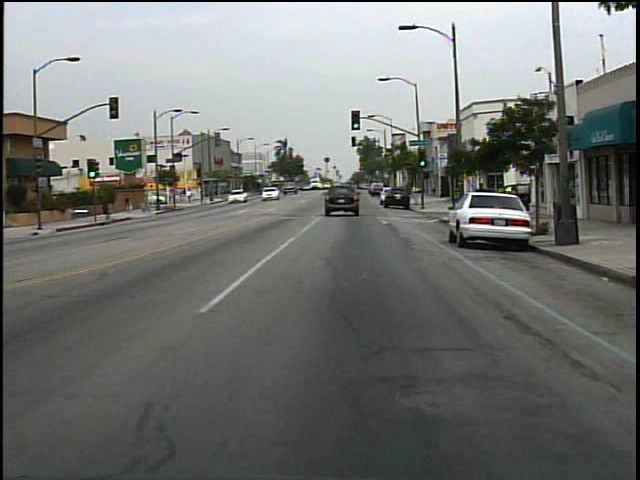person: (472, 178, 492, 217), (121, 192, 140, 221), (185, 187, 195, 205)
